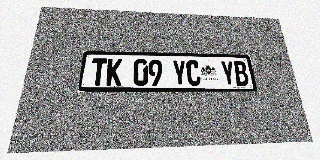0: (133, 59, 148, 86)
9: (148, 59, 163, 86)
B: (233, 61, 250, 86)
C: (186, 60, 201, 86)
K: (106, 59, 122, 86)
T: (90, 58, 107, 86)
Y: (220, 61, 236, 86), (172, 60, 187, 86)
